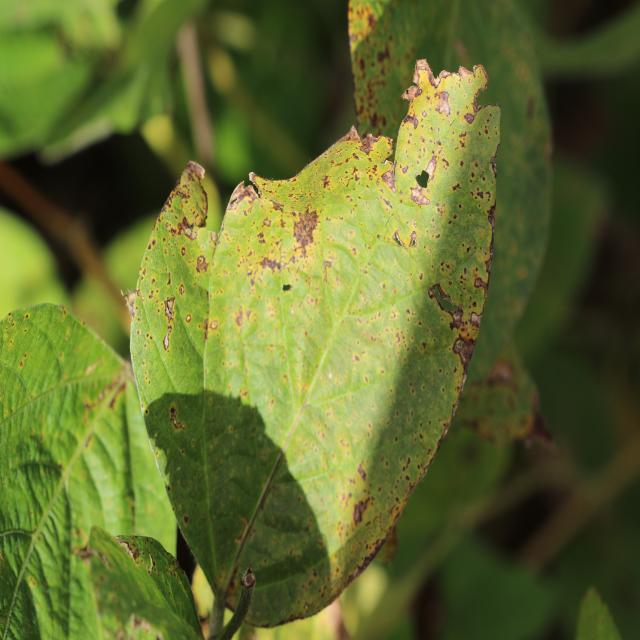Bacterial_Blight: (82, 370, 125, 420), (352, 532, 393, 582), (289, 204, 322, 261), (227, 181, 260, 207), (451, 335, 475, 369), (487, 359, 514, 387), (360, 132, 382, 155), (353, 495, 371, 523), (393, 229, 417, 250), (175, 215, 196, 238), (169, 405, 187, 431), (489, 141, 501, 180), (409, 185, 430, 207), (434, 90, 451, 117), (258, 255, 282, 274), (473, 272, 489, 298), (202, 317, 219, 339), (402, 84, 420, 101), (402, 113, 419, 130), (164, 297, 175, 321), (376, 46, 390, 63), (196, 255, 209, 273), (469, 311, 482, 328), (526, 96, 535, 119), (357, 462, 367, 480), (463, 112, 476, 125), (235, 308, 243, 327), (148, 553, 156, 572), (322, 175, 331, 190), (163, 333, 170, 351), (132, 548, 140, 561), (452, 182, 461, 191), (263, 218, 271, 227), (61, 306, 67, 318), (477, 190, 484, 199), (146, 332, 153, 341), (402, 165, 409, 174), (183, 515, 189, 525), (179, 285, 185, 295), (185, 314, 191, 323), (167, 273, 171, 286), (181, 247, 186, 257), (7, 312, 12, 320), (19, 360, 24, 368), (25, 312, 30, 319), (11, 321, 16, 328), (148, 292, 153, 299), (419, 273, 423, 280), (23, 352, 27, 359)
Soybean: (131, 60, 500, 627)
